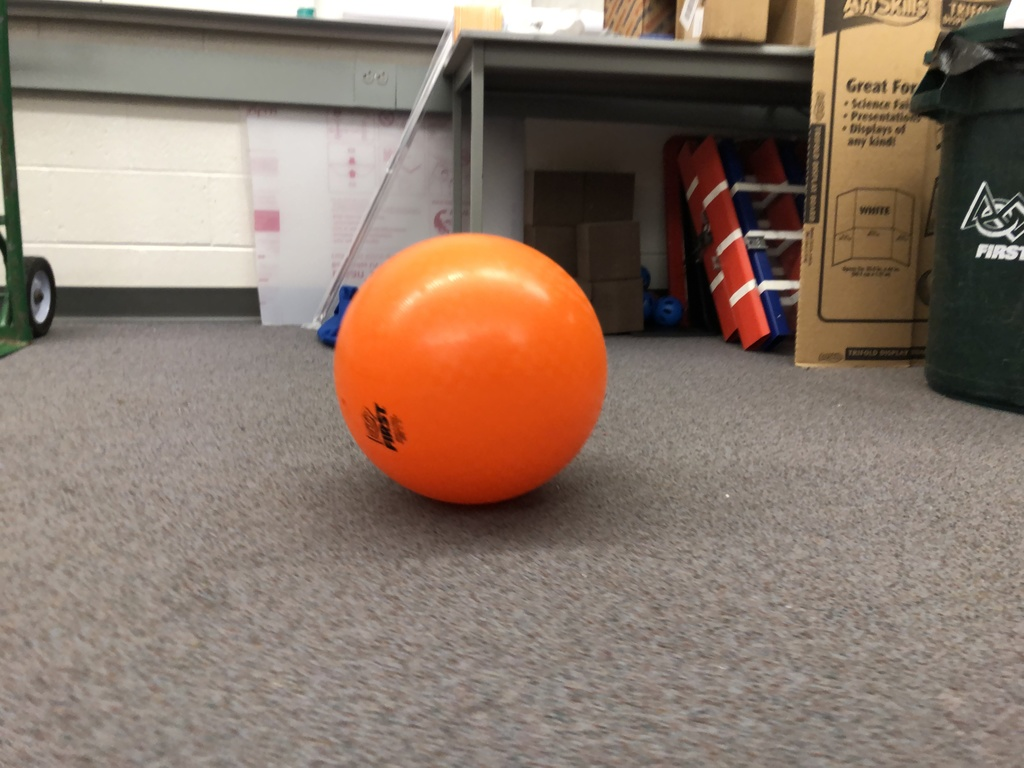cargo: (329, 224, 618, 520)
